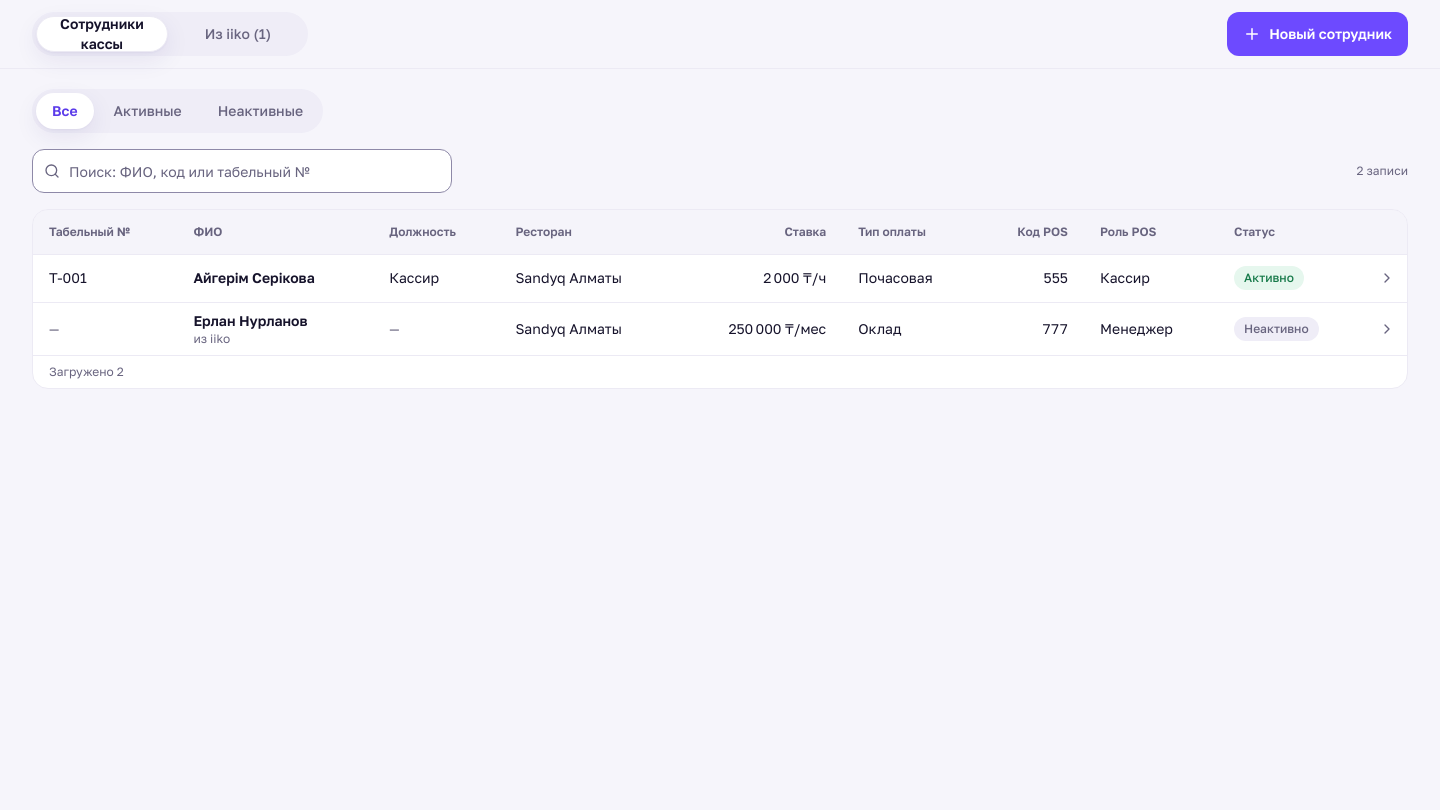
Scenario: «+ Новый сотрудник» (createPosEmployee) › checks the PIN length before the server and sends the HR fields
The width and height of the screenshot is (1440, 810).
Click the button "Новый сотрудник" at point(1318, 34), box x1=1227 y1=12 x2=1408 y2=56
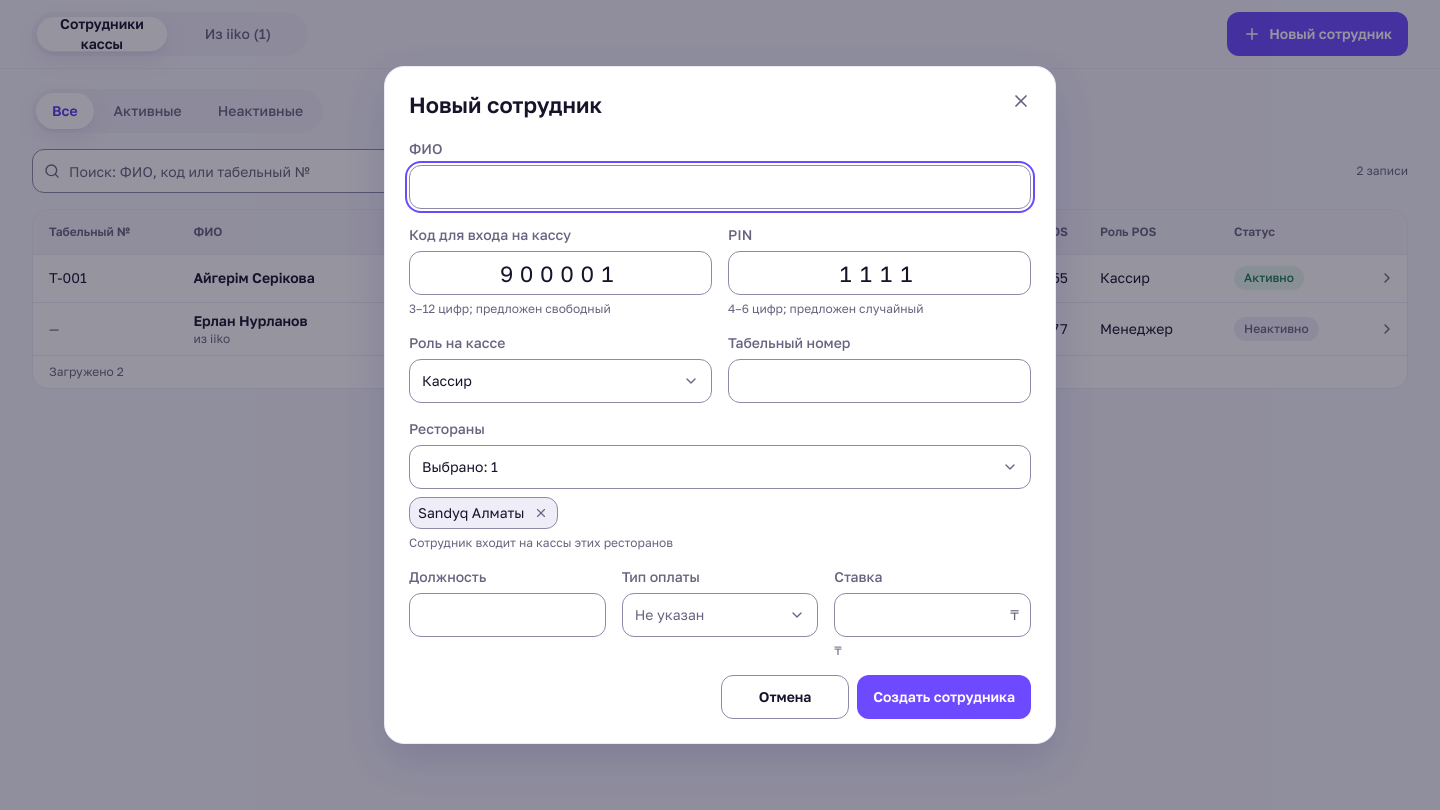
Type "Асель Тестова" into the field labelled "ФИО" at point(720, 187), box x1=409 y1=165 x2=1031 y2=209
Replace the text in the field labelled "PIN" with "123" at point(880, 273), box x1=728 y1=251 x2=1031 y2=295
Click the button "Создать сотрудника" at point(944, 697), box x1=857 y1=675 x2=1031 y2=719
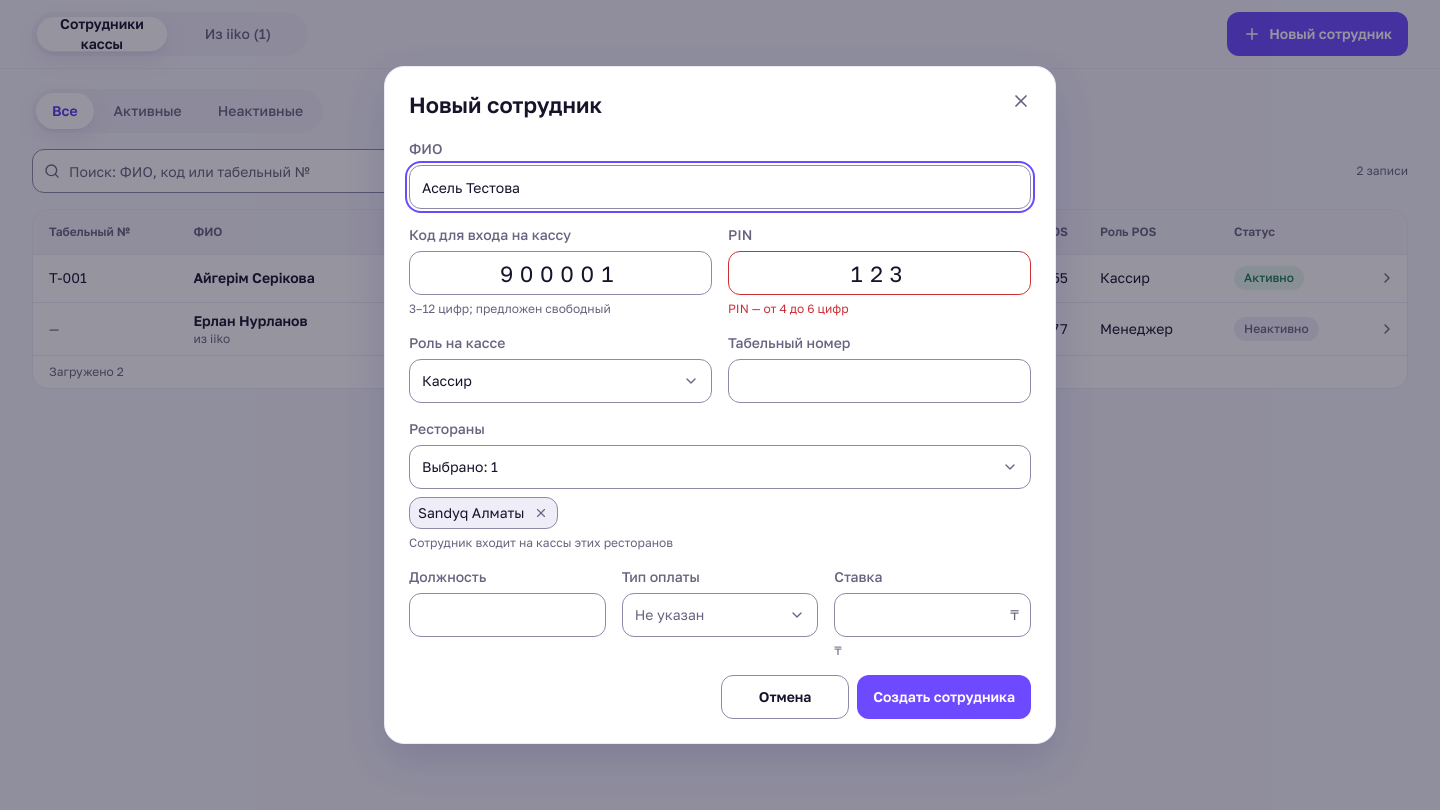
Now the text "PIN — от 4 до 6 цифр" is shown, box x1=728 y1=301 x2=848 y2=316
Replace the text in the field labelled "PIN" with "2468" at point(880, 273), box x1=728 y1=251 x2=1031 y2=295
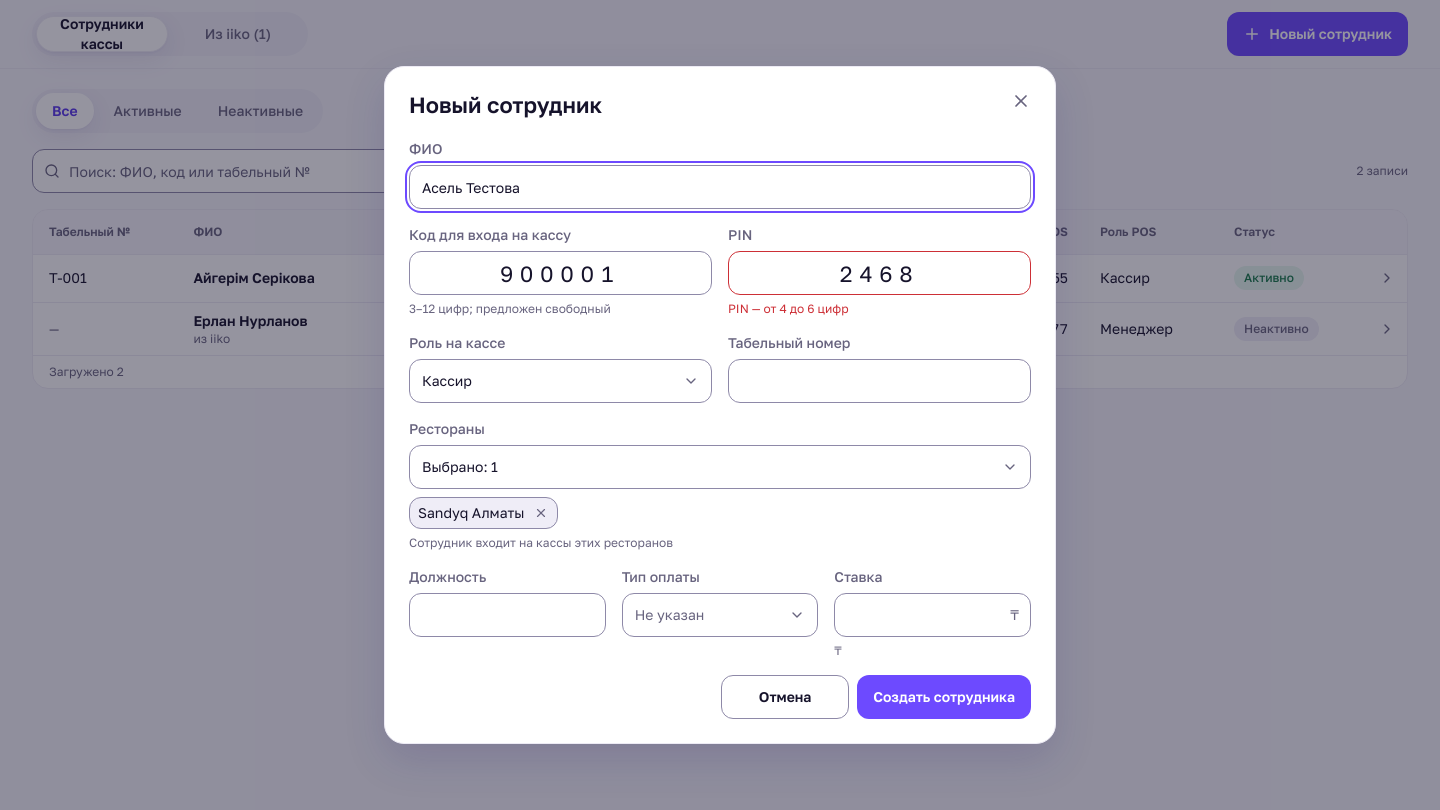
Type "T-100" into the field labelled "Табельный номер" at point(880, 381), box x1=728 y1=359 x2=1031 y2=403
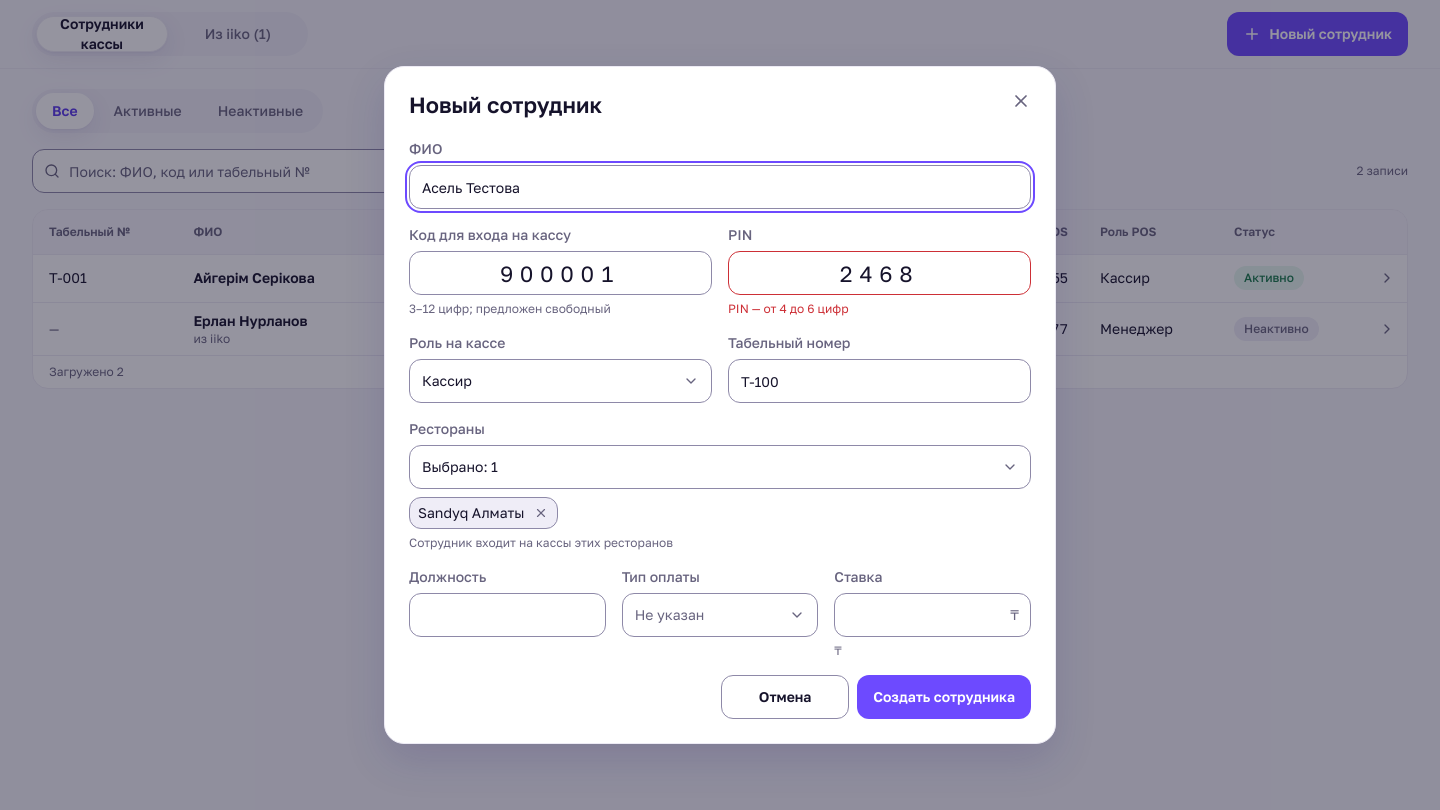
Type "2000" into the field labelled "Ставка" at point(933, 615), box x1=834 y1=593 x2=1031 y2=637
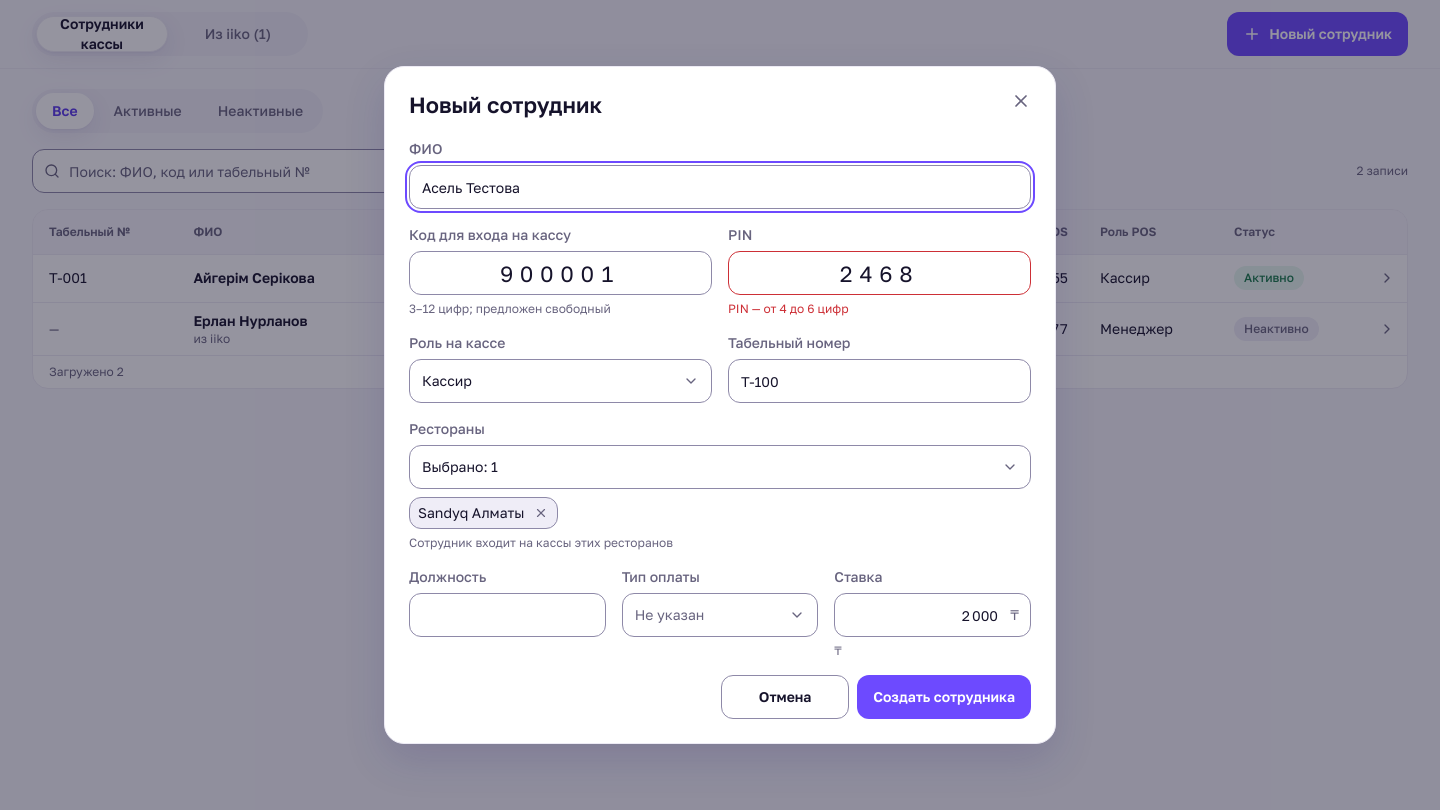
Click the button "Создать сотрудника" at point(944, 697), box x1=857 y1=675 x2=1031 y2=719
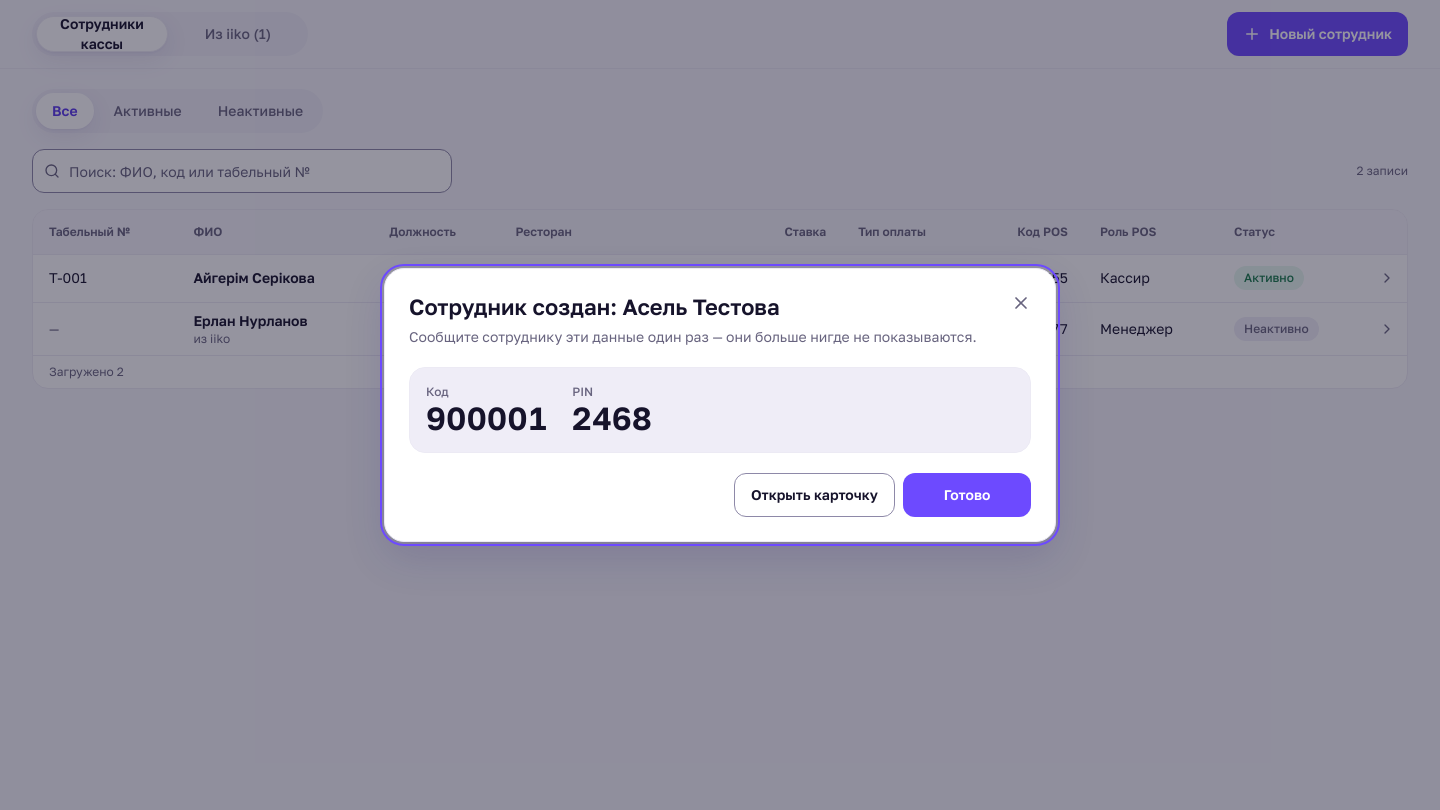
Now the heading "Сотрудник создан: Асель Тестова" is shown, box x1=409 y1=293 x2=780 y2=320
